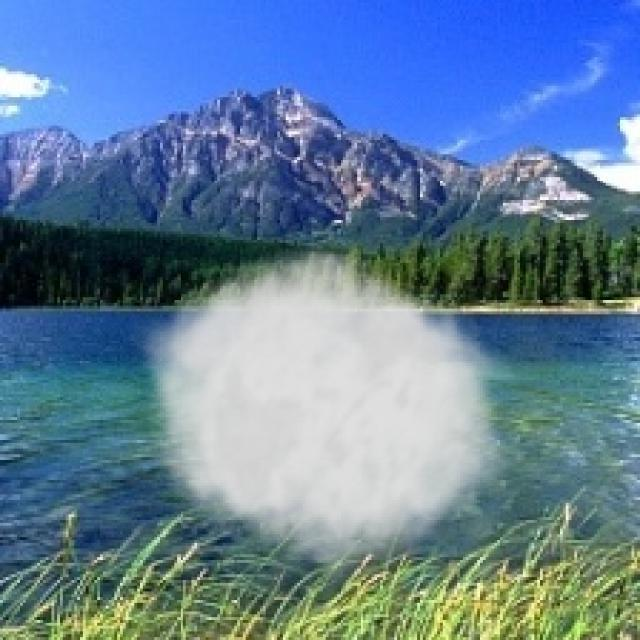Smoke: (128, 237, 514, 583)
